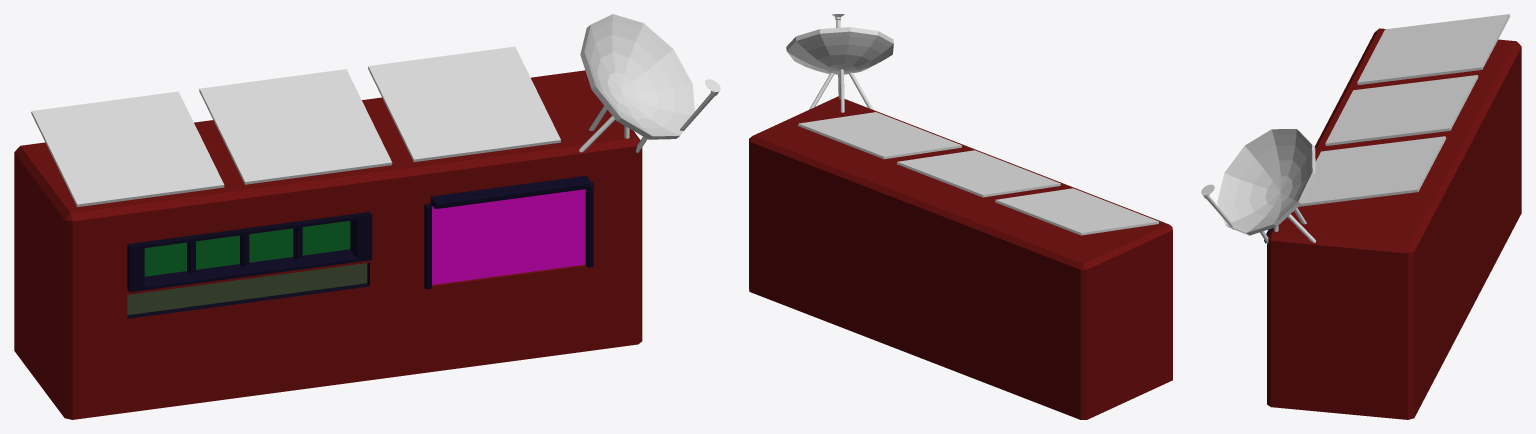
File: Building Prop.fbx
3 renders of one model, left to right at view 1: azimuth 30°, elevation 25°; view 2: azimuth 150°, elevation 25°; view 3: azimuth 270°, elevation 25°, orthographic. The views are drawn at different scales.
Visible parts, largest first — view 1: Robot_Station_Block, pCube6, pCube7, pCube2, pSphere1; view 2: Robot_Station_Block, pCube6, pCube2, pCube7, pSphere1; view 3: Robot_Station_Block, pSphere1, pCube6, pCube2, pCube7, pCylinder14.
Boxes of the visible parts, <box> form: Robot_Station_Block: <box>14,70,642,419</box>; pCube6: <box>199,69,392,184</box>; pCube7: <box>368,46,560,162</box>; pCube2: <box>31,91,224,206</box>; pSphere1: <box>580,14,694,139</box>; Robot_Station_Block: <box>749,96,1172,419</box>; pCube6: <box>897,150,1060,197</box>; pCube2: <box>995,188,1158,235</box>; pCube7: <box>798,112,961,159</box>; pSphere1: <box>786,27,893,74</box>; Robot_Station_Block: <box>1264,28,1521,419</box>; pSphere1: <box>1217,129,1315,235</box>; pCube6: <box>1325,75,1478,145</box>; pCube2: <box>1357,14,1510,84</box>; pCube7: <box>1299,136,1446,206</box>; pCylinder14: <box>1201,184,1233,229</box>.
Size of the model in its own units: 145 by 76.92 by 84.84.
